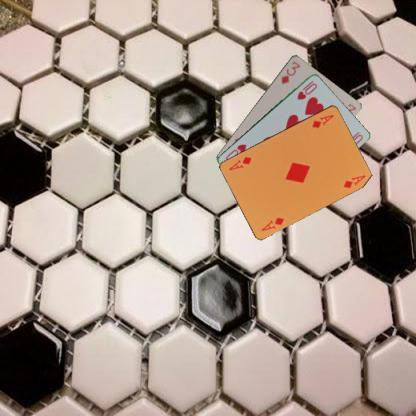10h: (294, 79, 318, 100)
3d: (278, 58, 301, 85)
Ad: (258, 214, 286, 233), (309, 112, 335, 130)
